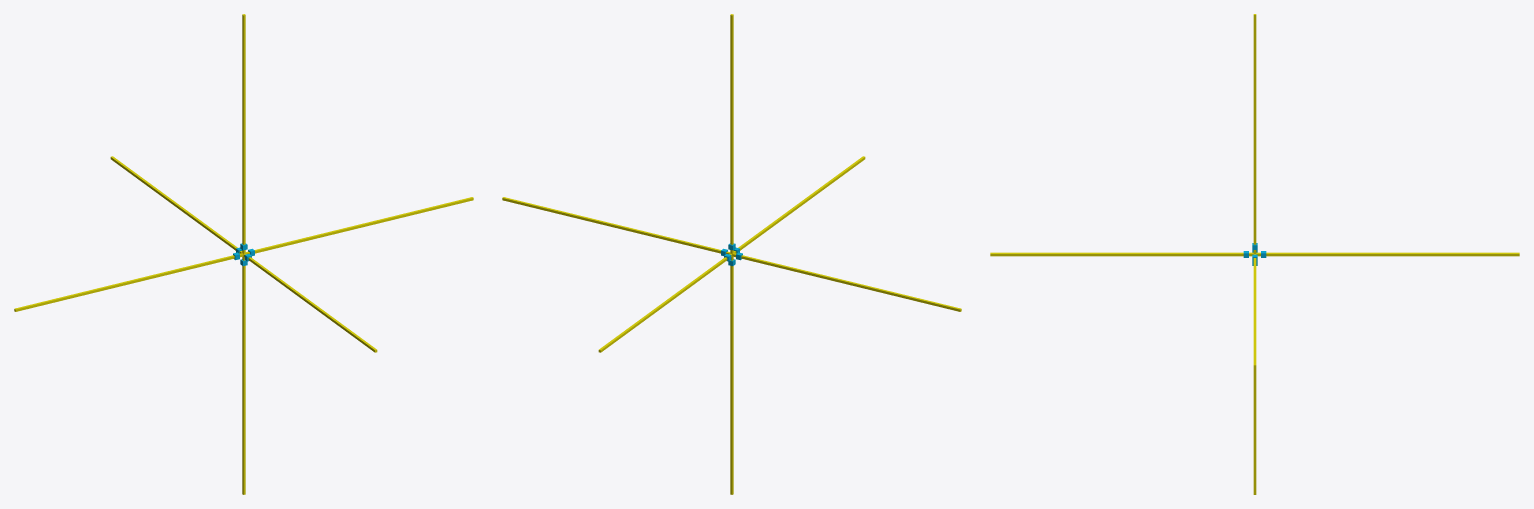
File: axesBoxes.gltf
The picture shows the model from 3 angles, left to right: view 1: azimuth 30°, elevation 25°; view 2: azimuth 150°, elevation 25°; view 3: azimuth 270°, elevation 25°; orthographic projection.
Parts seen in each view (by area): view 1: Cube.003, Cube.002, Cube, Cube.005, Cube.001, Cube.004; view 2: Cube.003, Cube.002, Cube, Cube.005, Cube.004, Cube.001; view 3: Cube.001, Cube.004, Cube.
Part boxes in pixels (box(x1,y1,x2,y2)): Cube.003: box(14, 253, 243, 311); Cube.002: box(245, 197, 473, 254); Cube: box(242, 14, 245, 253); Cube.005: box(242, 256, 245, 494); Cube.001: box(243, 253, 377, 352); Cube.004: box(110, 156, 242, 253); Cube.003: box(732, 253, 961, 311); Cube.002: box(502, 197, 730, 254); Cube: box(730, 14, 733, 253); Cube.005: box(730, 256, 733, 494); Cube.004: box(598, 253, 732, 352); Cube.001: box(733, 156, 865, 253); Cube.001: box(990, 252, 1253, 256); Cube.004: box(1256, 252, 1519, 256); Cube: box(1253, 14, 1256, 253).
Bounding box in the file's own units: 200 × 200 × 200.
